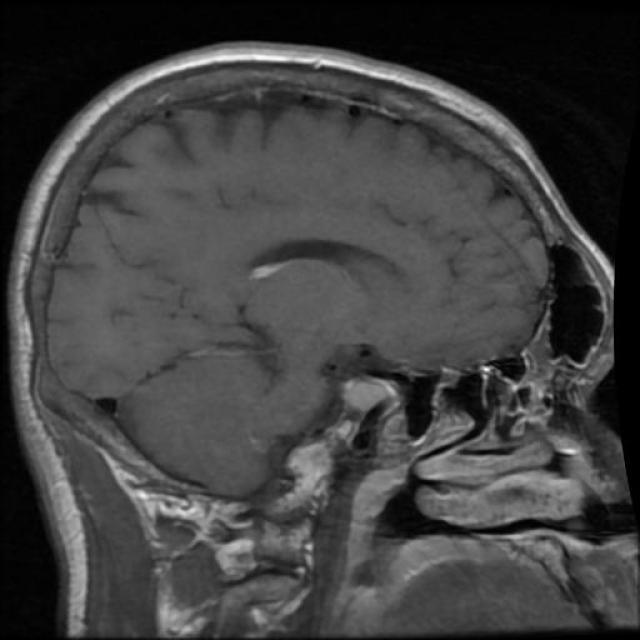pituitary: (282, 354, 397, 480)
